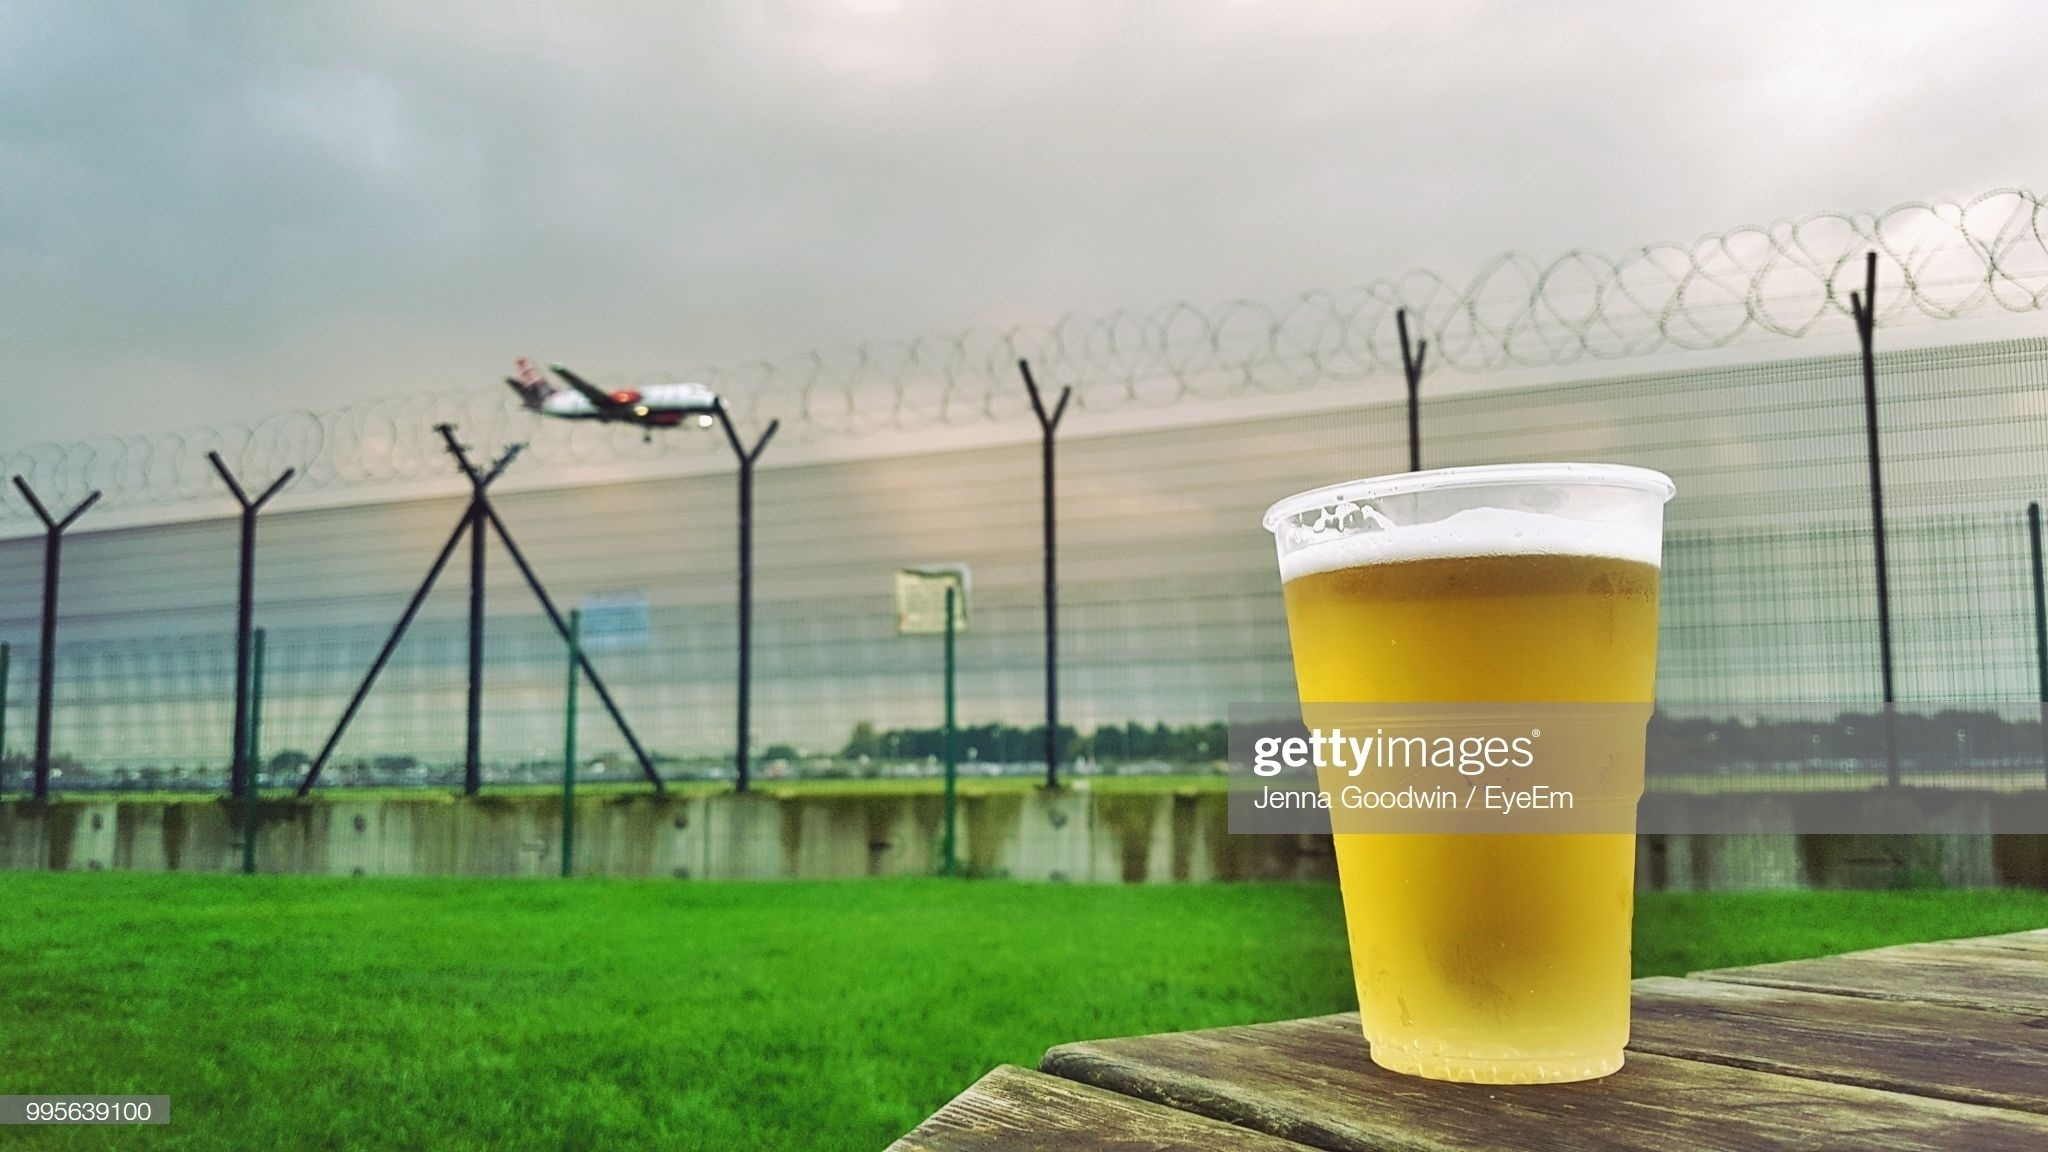whiskey: (1279, 436, 1671, 1065)
